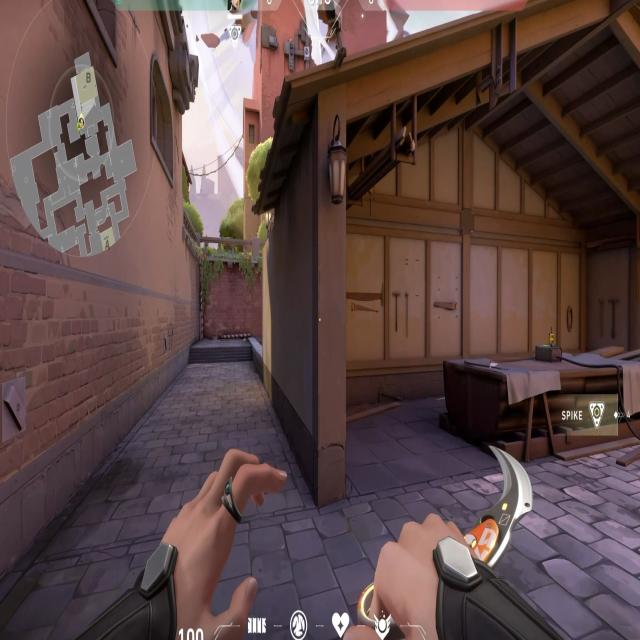B_Garage_Left: (309, 69, 516, 489)
Throwables: (150, 53, 176, 185)
